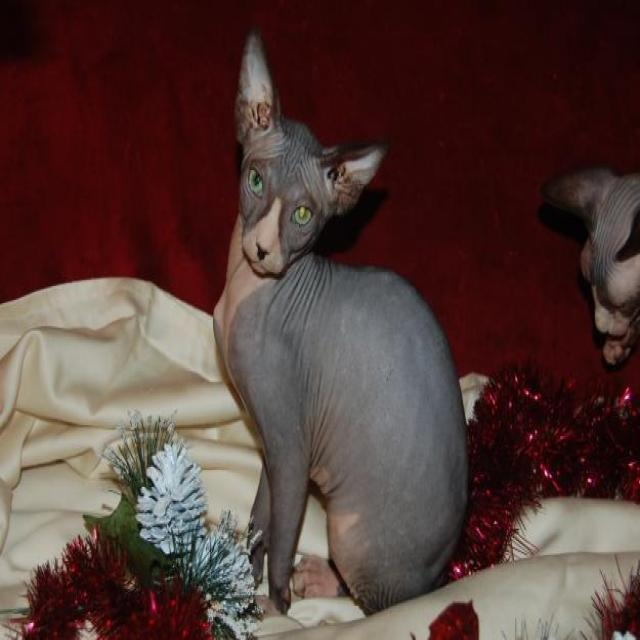Sphynx: (229, 25, 387, 288)
